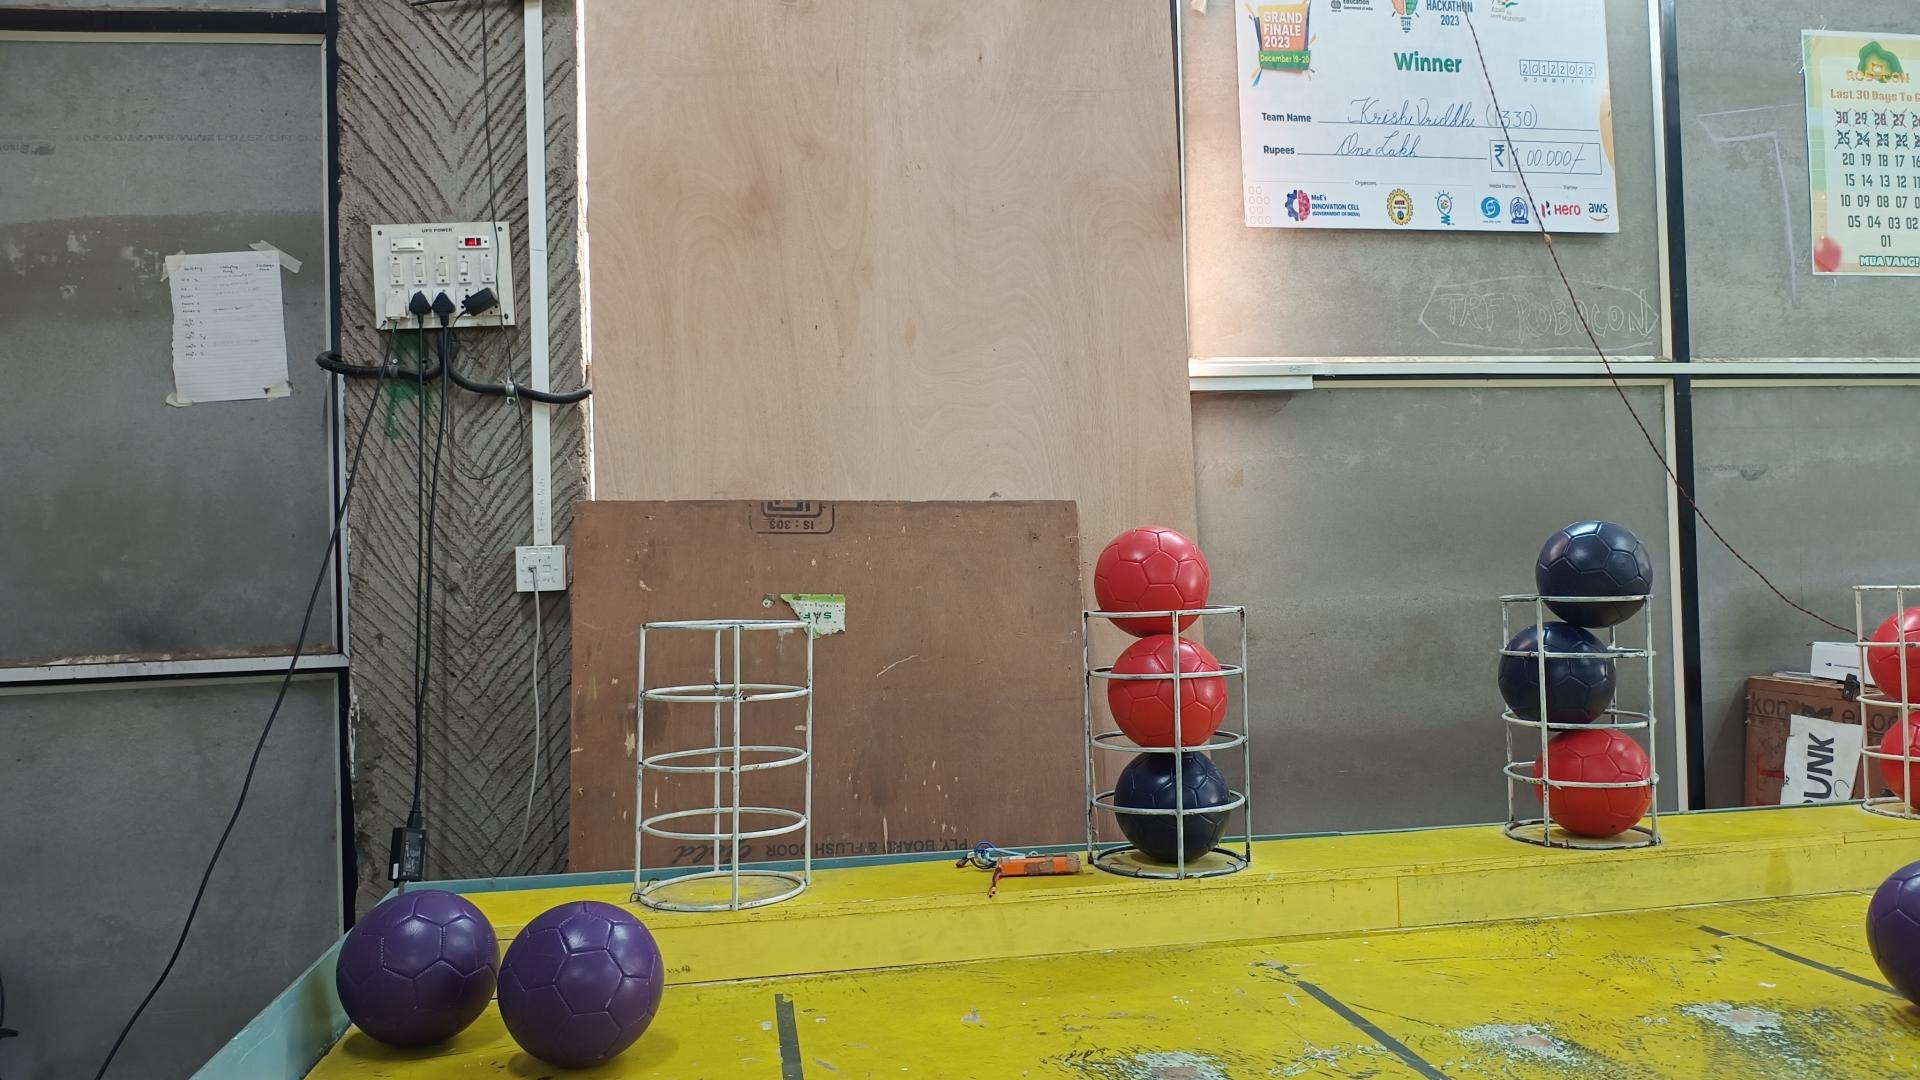dhoka: (1534, 521, 1654, 630), (1114, 750, 1230, 862), (1497, 622, 1617, 724)
laale: (1106, 634, 1230, 746), (1534, 728, 1654, 840), (1095, 525, 1212, 637), (1867, 608, 1920, 705), (1879, 712, 1920, 810)
